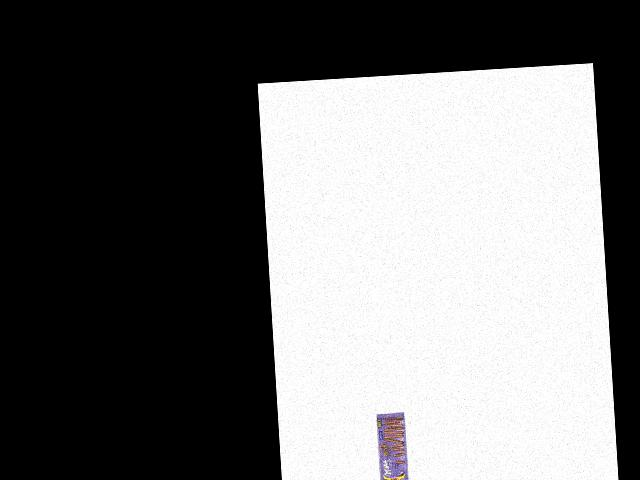chocolate: (375, 410, 412, 480)
